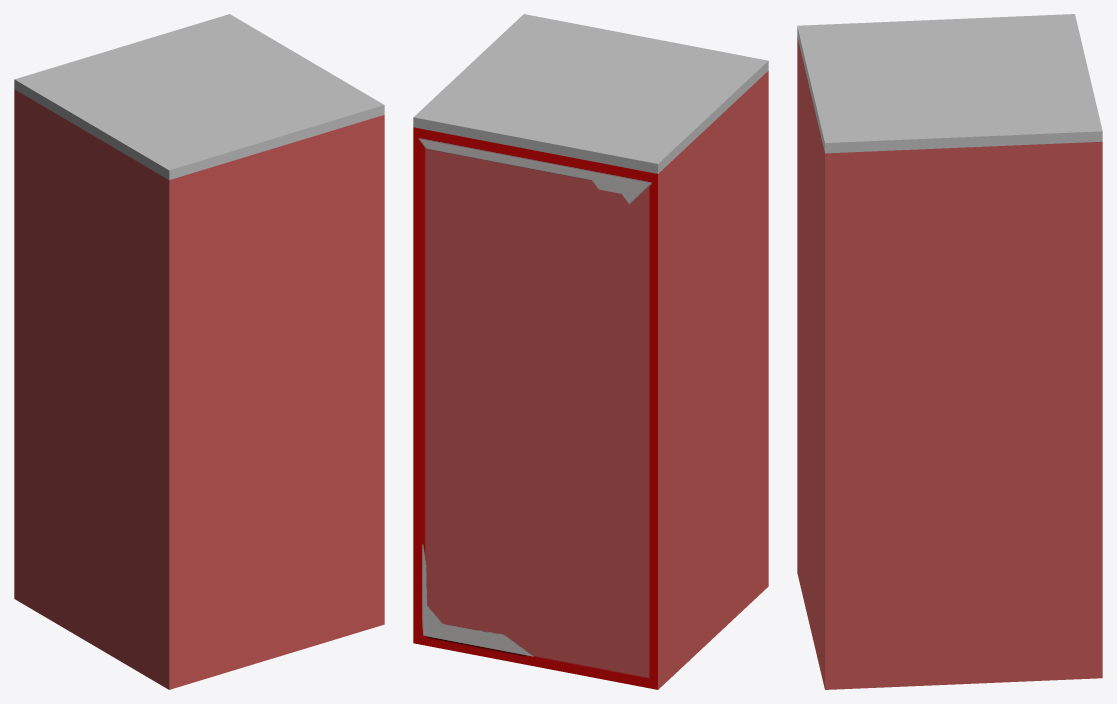
The model's file is podium_red1.fbx.
The picture shows the model from 3 angles, left to right: view 1: azimuth 30°, elevation 25°; view 2: azimuth 150°, elevation 25°; view 3: azimuth 270°, elevation 25°; orthographic projection. The views are drawn at different scales.
Visible parts, largest first — view 1: Cube; view 2: Cube; view 3: Cube.
Boxes of the visible parts, left/top/right/bottom form: Cube: left=14, top=14, right=384, bottom=689; Cube: left=413, top=14, right=768, bottom=689; Cube: left=797, top=14, right=1102, bottom=689.
Size of the model in its own units: 2.19 by 4.32 by 2.19.
